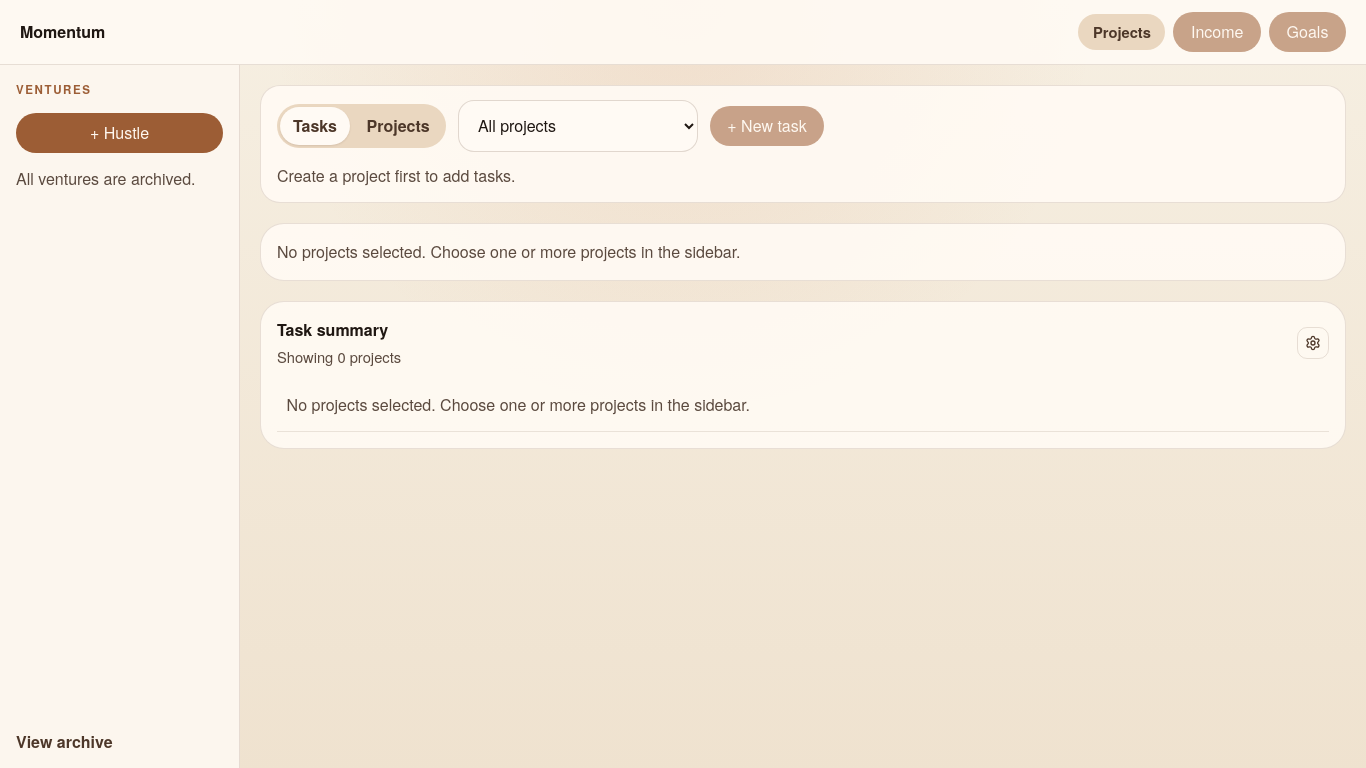
Test: Ticket 1.6-14 — archive ventures vs projects UX › shows the same restore affordance on archived venture rows where restoration is allowed
Click the button "View archive".
click(120, 742)  # box [16,725,223,760]
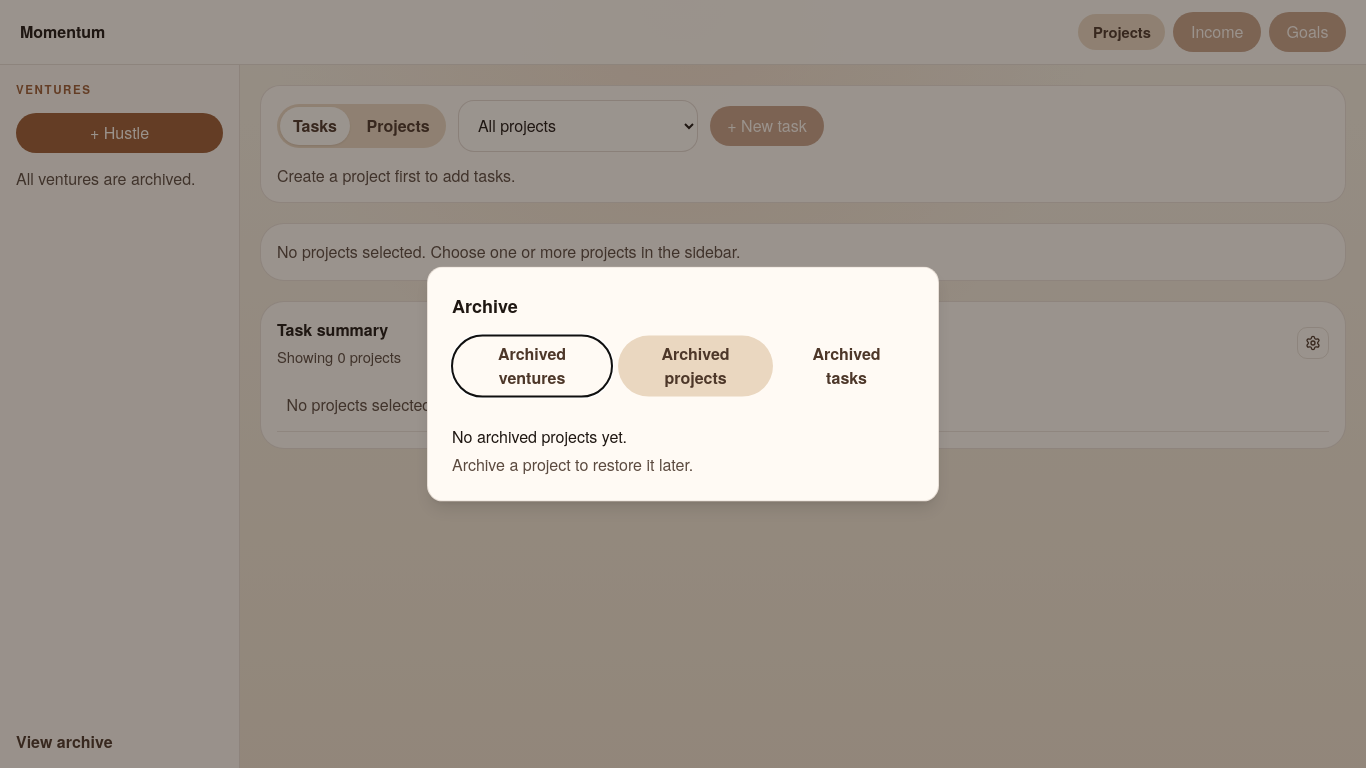
Click the tab "Archived ventures".
click(532, 366)  # box [452,336,612,396]
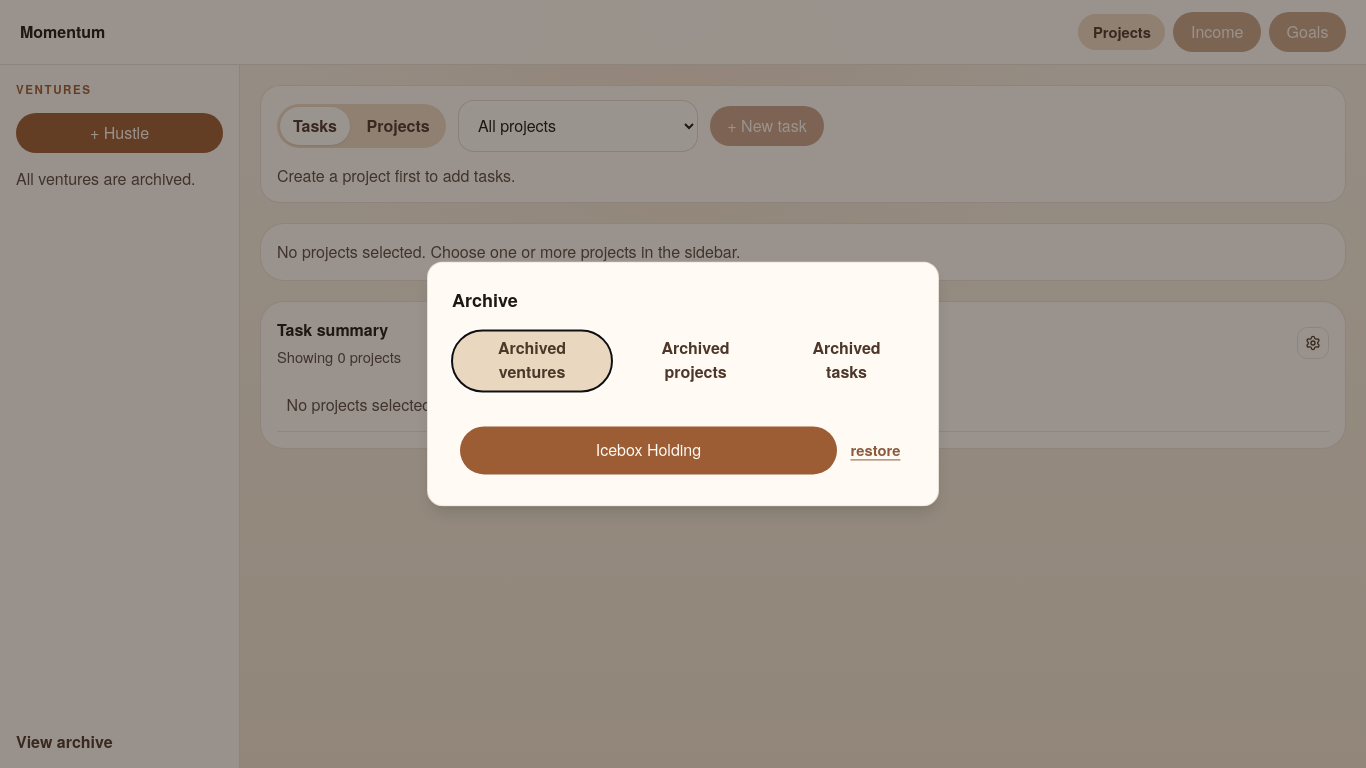
Now the button "restore" is shown, box [845,435,906,465]
Now the element "Icebox Holding restore" is shown, box [452,419,914,482]
